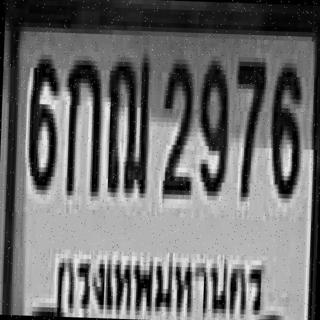A01: (63, 55, 102, 192)
A12: (104, 52, 150, 193)
N02: (159, 54, 194, 195)
N06: (268, 58, 300, 194), (26, 54, 57, 186)
N07: (232, 57, 265, 197)
N09: (196, 56, 229, 192)
